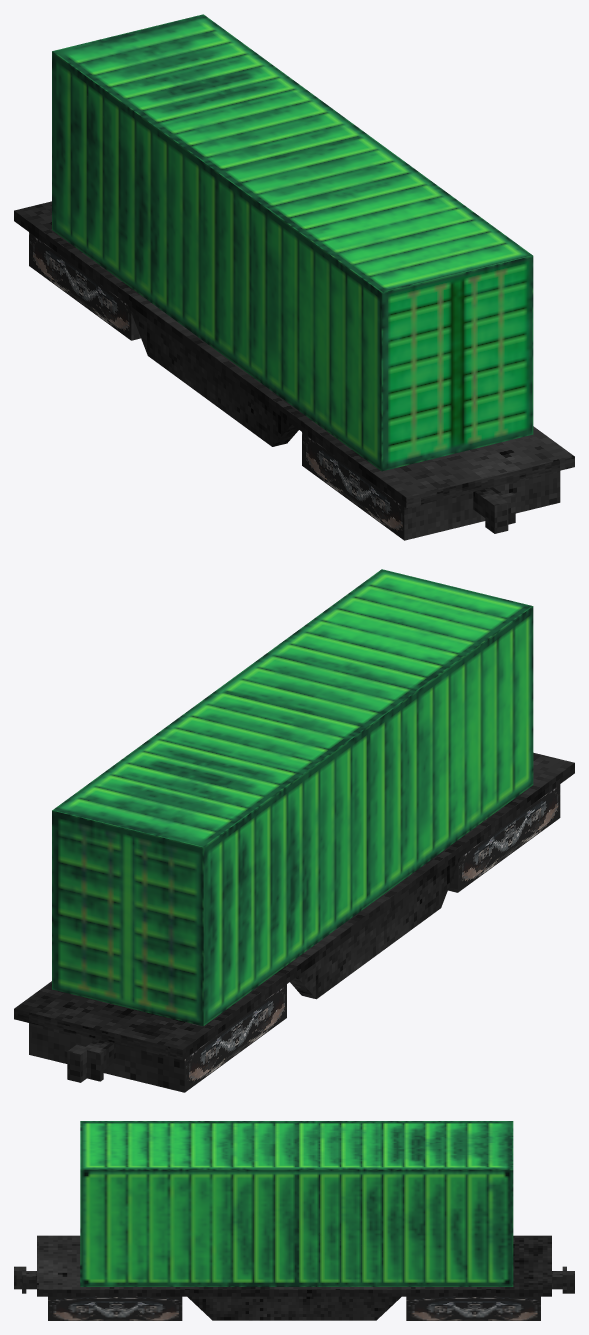
The model's file is pixel_train_car_green_lowpoly.fbx.
3 views of the same model, one above another, from view 1: azimuth 30°, elevation 25°; view 2: azimuth 150°, elevation 25°; view 3: azimuth 270°, elevation 25° (orthographic). The views are drawn at different scales.
Visible parts, largest first — view 1: psx_train_car_body_green, psx_train_car_underbody, psx_train_car_wheels, psx_train_car_attach; view 2: psx_train_car_body_green, psx_train_car_underbody, psx_train_car_wheels, psx_train_car_attach2; view 3: psx_train_car_body_green, psx_train_car_underbody, psx_train_car_wheels, psx_train_car_attach, psx_train_car_attach2.
Part boxes in pixels (x1,y1,x2,y2): psx_train_car_body_green: (52, 14, 533, 471); psx_train_car_underbody: (14, 201, 574, 508); psx_train_car_wheels: (29, 232, 560, 540); psx_train_car_attach: (473, 487, 515, 533); psx_train_car_body_green: (52, 569, 533, 1026); psx_train_car_underbody: (14, 752, 574, 1060); psx_train_car_wheels: (29, 784, 560, 1092); psx_train_car_attach2: (67, 1039, 115, 1082); psx_train_car_body_green: (80, 1121, 513, 1286); psx_train_car_underbody: (37, 1235, 551, 1320); psx_train_car_wheels: (48, 1296, 540, 1320); psx_train_car_attach: (14, 1266, 36, 1293); psx_train_car_attach2: (552, 1266, 574, 1293).
Bounding box in the file's own units: 340 × 442 × 1492.
